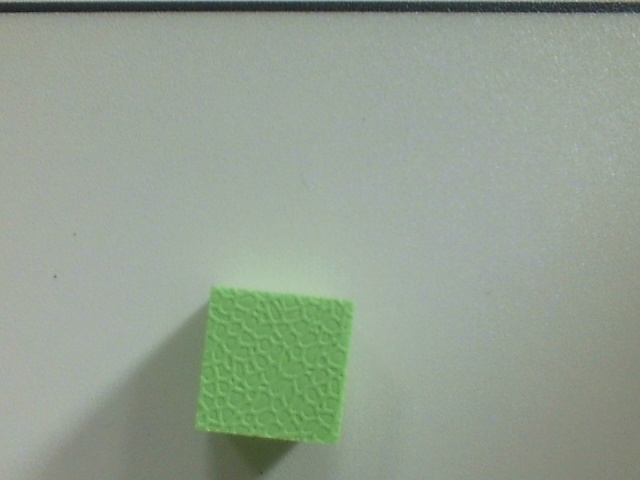greencube: (188, 284, 355, 447)
